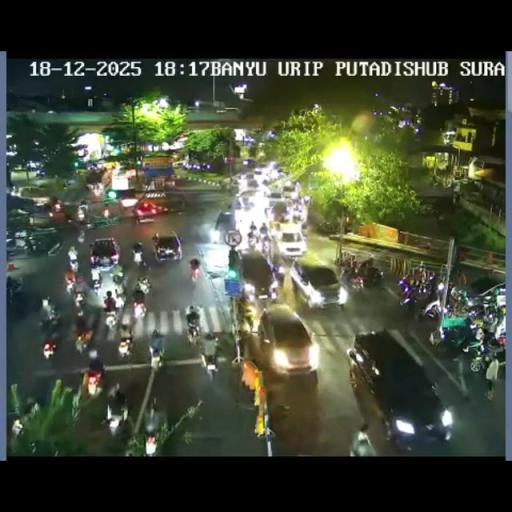Car: (349, 330, 453, 448), (257, 303, 318, 376), (294, 261, 344, 309), (238, 252, 275, 301), (89, 236, 120, 270), (230, 194, 260, 229), (276, 226, 306, 258), (152, 231, 182, 262), (16, 186, 52, 206), (214, 209, 235, 242), (134, 200, 162, 222), (266, 199, 291, 223), (236, 177, 262, 198), (252, 167, 270, 183), (265, 190, 284, 202), (281, 184, 296, 198), (242, 158, 256, 168)
Motorcycle: (60, 271, 156, 365), (435, 314, 479, 358), (398, 270, 438, 312), (422, 404, 454, 443), (10, 401, 38, 441), (104, 390, 128, 434), (484, 354, 501, 398), (87, 353, 105, 392), (482, 332, 505, 362), (74, 323, 94, 353), (267, 400, 294, 422), (468, 344, 488, 373), (143, 420, 160, 454), (448, 284, 470, 310), (200, 347, 219, 375), (39, 310, 61, 334), (6, 275, 24, 302), (343, 268, 364, 291), (102, 291, 118, 321), (118, 330, 134, 360), (235, 328, 250, 360), (491, 309, 506, 339), (464, 304, 486, 322), (186, 320, 200, 347), (366, 267, 384, 288), (135, 274, 151, 295), (73, 286, 87, 310), (110, 264, 125, 286), (42, 337, 56, 360), (149, 348, 163, 370), (132, 297, 146, 319), (184, 304, 200, 323), (268, 274, 280, 299), (90, 269, 103, 291), (318, 220, 338, 234), (64, 276, 76, 299), (46, 240, 64, 255), (24, 236, 38, 255), (342, 254, 356, 272), (6, 237, 19, 256), (189, 262, 200, 282), (246, 231, 258, 248), (132, 249, 143, 266), (261, 236, 271, 254), (274, 261, 284, 279), (68, 257, 79, 273), (291, 210, 303, 224), (78, 210, 88, 226), (302, 194, 312, 207), (77, 230, 85, 243), (102, 206, 110, 218), (260, 224, 268, 234), (54, 202, 60, 211)
